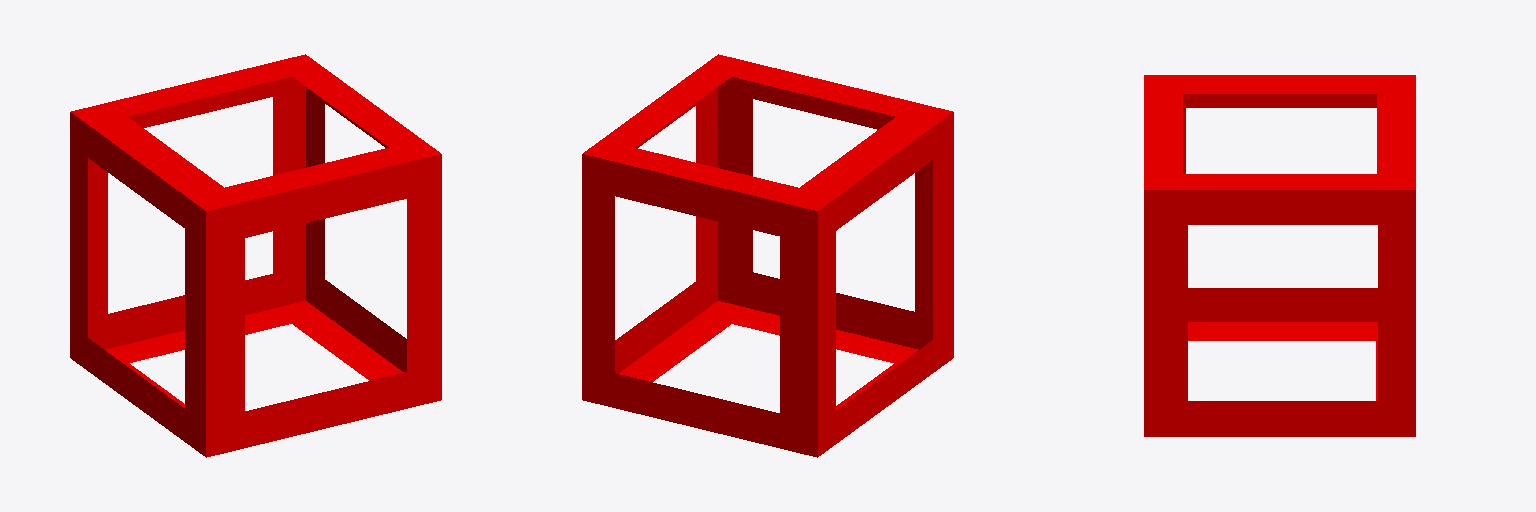
3 renders of one model, left to right at view 1: azimuth 30°, elevation 25°; view 2: azimuth 150°, elevation 25°; view 3: azimuth 270°, elevation 25°, orthographic.
Parts seen in each view (by area): view 1: Cube; view 2: Cube; view 3: Cube.
Part boxes in pixels (x1,y1,x2,y2): Cube: (70, 54, 441, 457); Cube: (582, 54, 953, 457); Cube: (1144, 75, 1415, 436).
Bounding box in the file's own units: 0.4 × 0.4 × 0.4.
Materials: 1 (1 with a texture image).